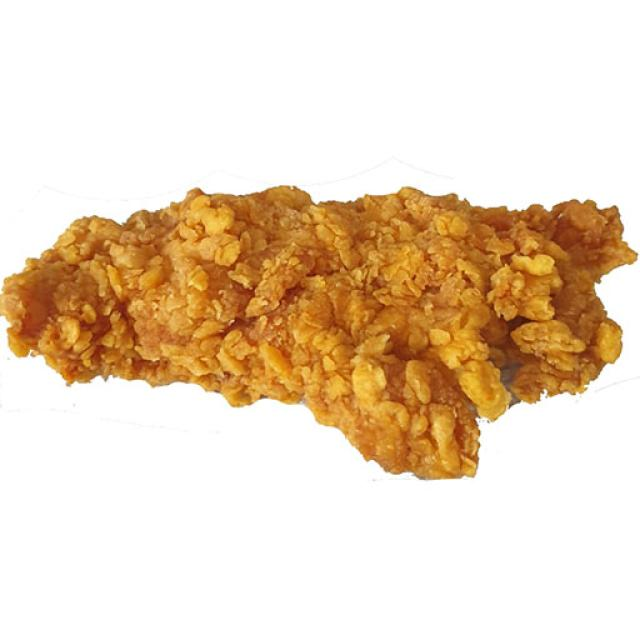Frango: (24, 163, 591, 484)
